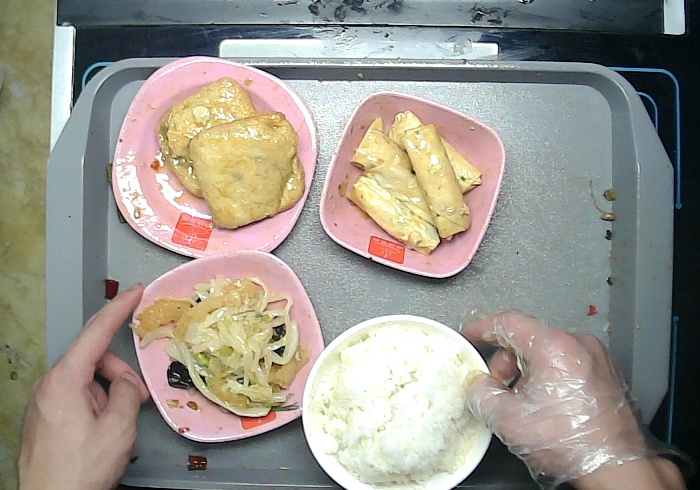SHKJ-Fan_Wan: (298, 309, 494, 490)
SHKJ-Fen_Se_Cai_Die: (128, 247, 329, 447)
SHKJ-Fen_Se_Si_Fang_Cai_Die: (109, 53, 320, 262)
SHKJ-Fen_Se_Xiao_Fang_Die: (317, 88, 507, 280)
